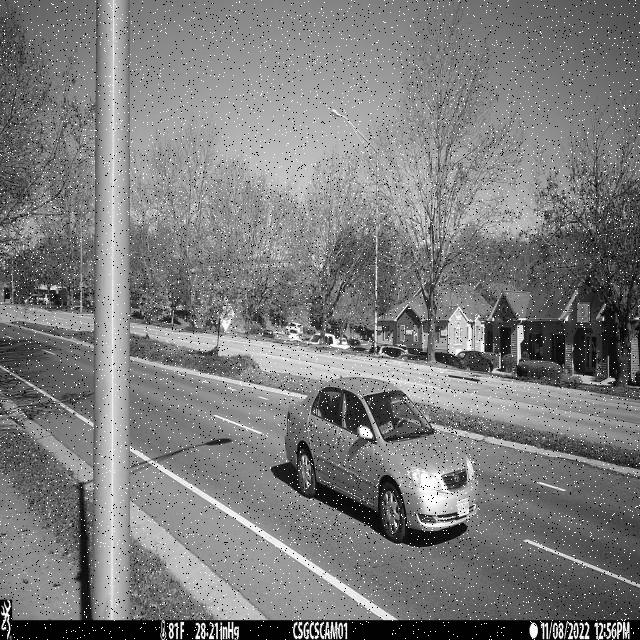Sedan: (285, 378, 479, 544)
